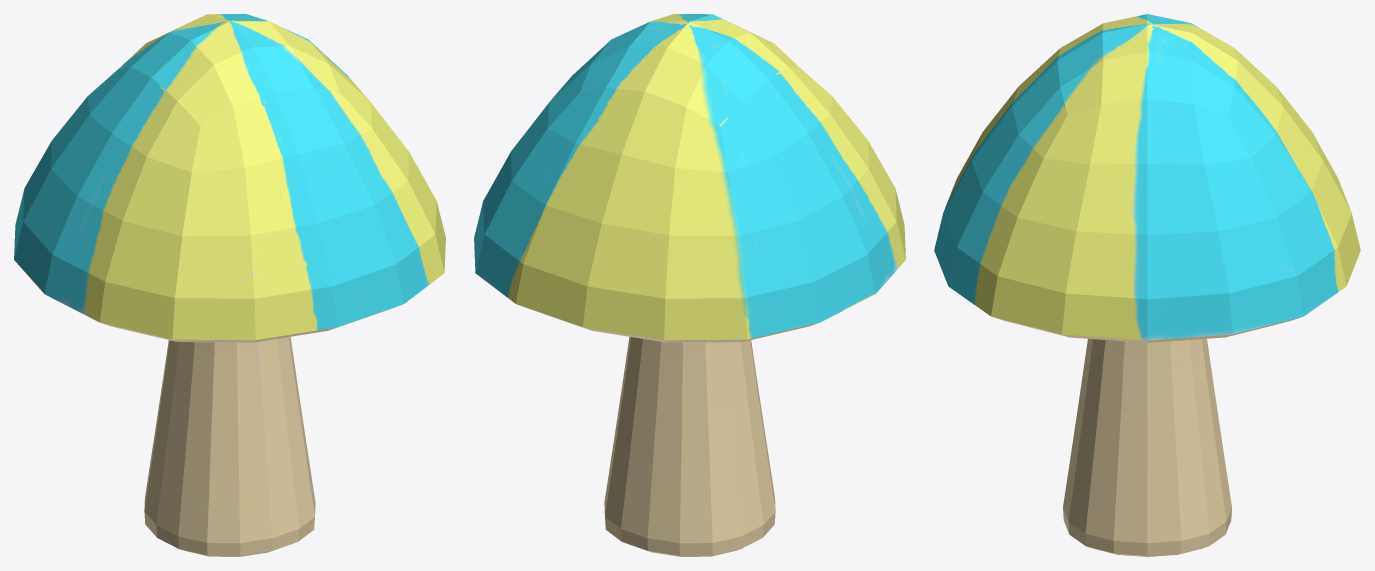
File: pilz_klein.obj
3 views of the same model, side by side, from view 1: azimuth 30°, elevation 25°; view 2: azimuth 150°, elevation 25°; view 3: azimuth 270°, elevation 25° (orthographic).
Visible parts, largest first — view 1: Cube; view 2: Cube; view 3: Cube.
Boxes of the visible parts, x1,y1,x2,y2 form: Cube: (14,14,445,556); Cube: (474,14,905,556); Cube: (934,14,1360,556).
Size of the model in its own units: 3.27 by 4.24 by 3.27.
